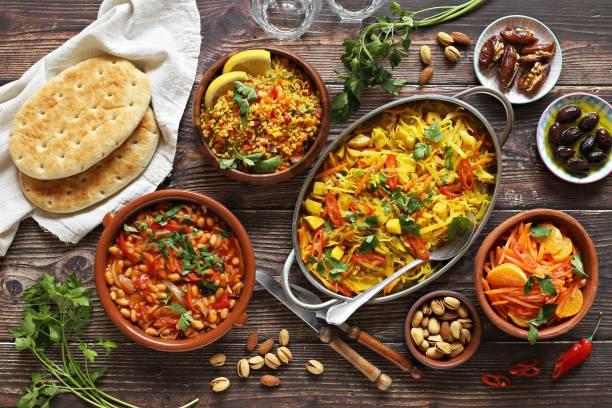Braised Crucian Carp: (289, 88, 509, 304), (92, 189, 249, 351), (192, 46, 329, 184), (473, 209, 598, 340), (473, 14, 562, 105), (535, 93, 611, 184)
